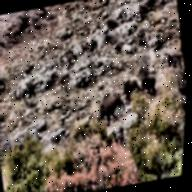boar: (93, 86, 131, 128), (119, 71, 146, 105), (137, 70, 160, 99)
